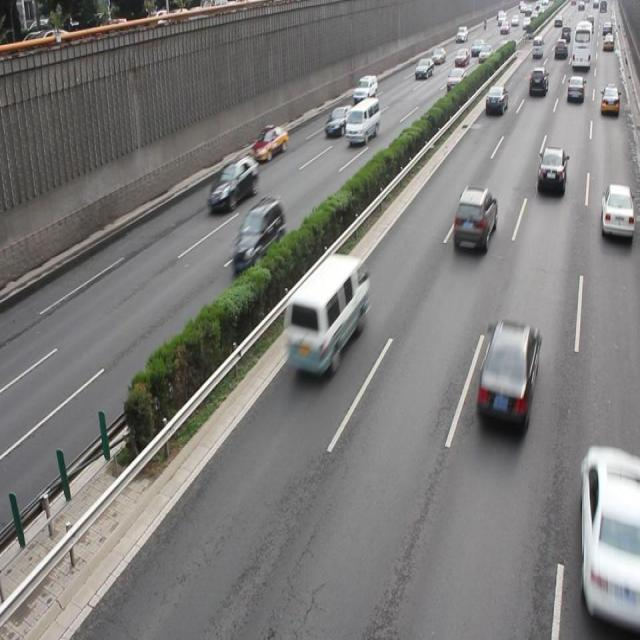car: (577, 446, 640, 614), (475, 316, 538, 432), (232, 197, 284, 276), (451, 184, 495, 251), (206, 158, 256, 213), (598, 182, 640, 239), (536, 145, 565, 195), (250, 124, 287, 162), (324, 105, 352, 137)
truck: (282, 252, 368, 377), (345, 97, 378, 144)
